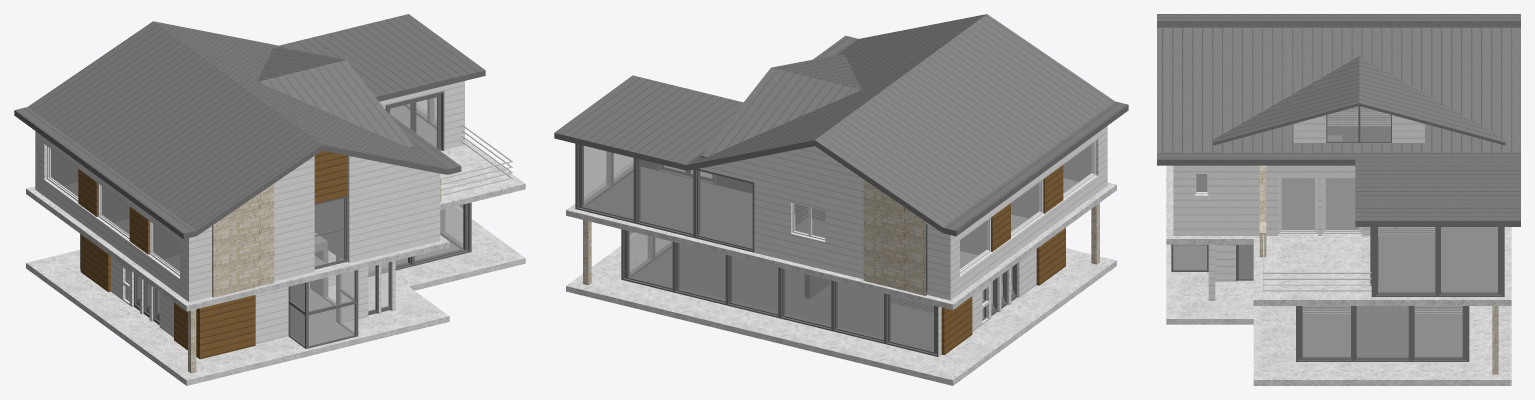
The model's file is casa2.glb.
The picture shows the model from 3 angles, left to right: view 1: azimuth 30°, elevation 25°; view 2: azimuth 150°, elevation 25°; view 3: azimuth 270°, elevation 25°; orthographic projection. The views are drawn at different scales.
Visible parts, largest first — view 1: root; view 2: root; view 3: root.
Part boxes in pixels (<box>): root: <box>14,14,525,385</box>; root: <box>554,14,1128,385</box>; root: <box>1157,14,1520,385</box>.
Size of the model in its own units: 14.98 by 7.7 by 11.13.
12 materials, 7 textured.
